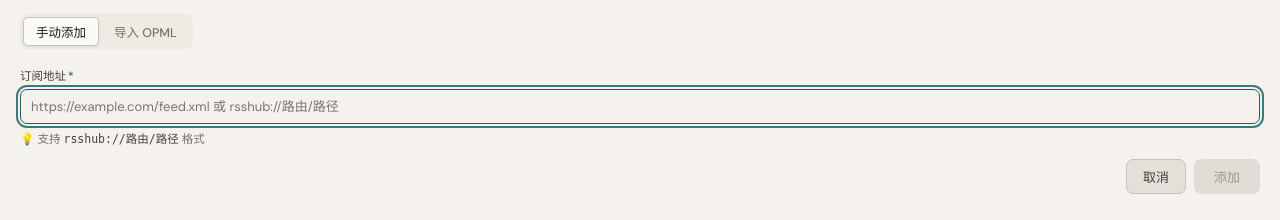
AddFeedPanel — manual tab › shows the error and stays put when adding fails
Type "https://bad.example/rss" into the field with placeholder "https://example.com/feed.xml 或 rsshub://路由/路径". click: (640, 106)
box: [20,89,1260,124]
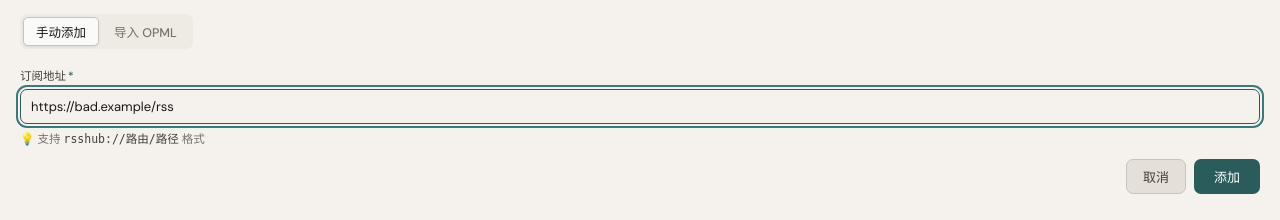
Click the button "添加". click: (1227, 176)
box: [1194,159,1260,194]
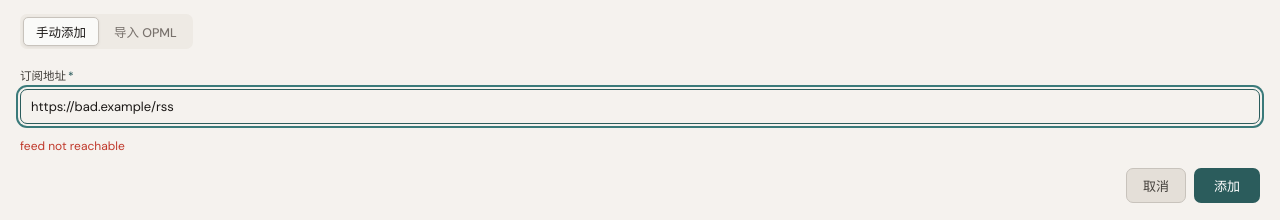
Now the text "feed not reachable" is shown, box [20,138,125,154]
